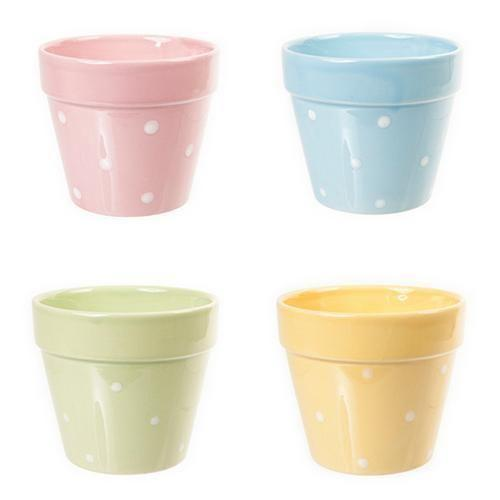tire: (276, 283, 466, 475), (32, 286, 220, 473), (41, 34, 224, 215), (282, 33, 461, 214)
